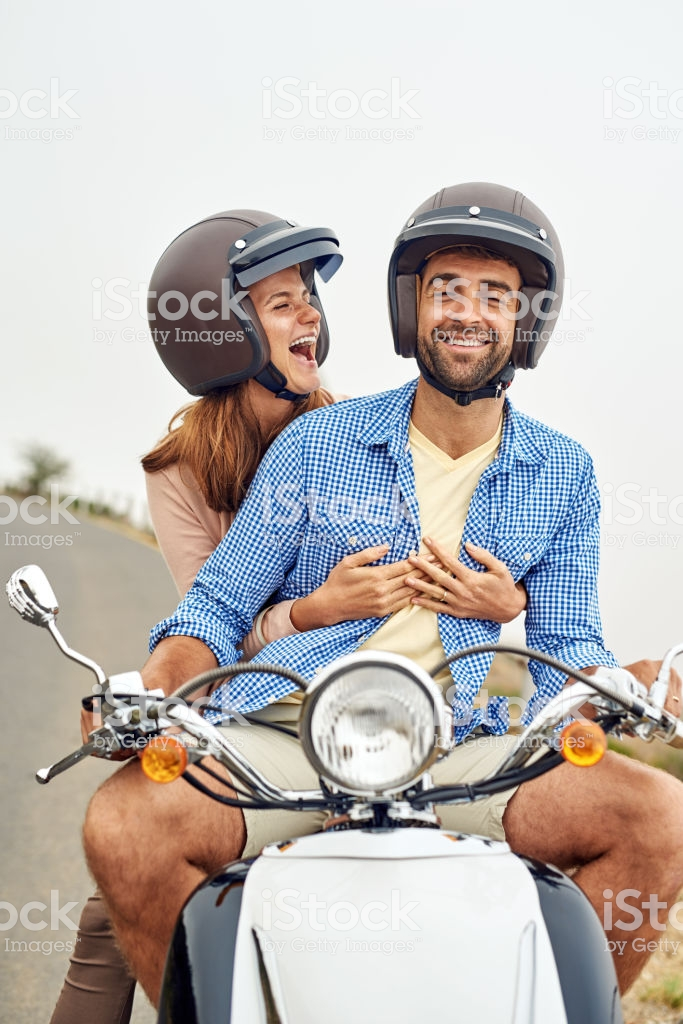helmet: (384, 187, 559, 342), (133, 229, 323, 365)
